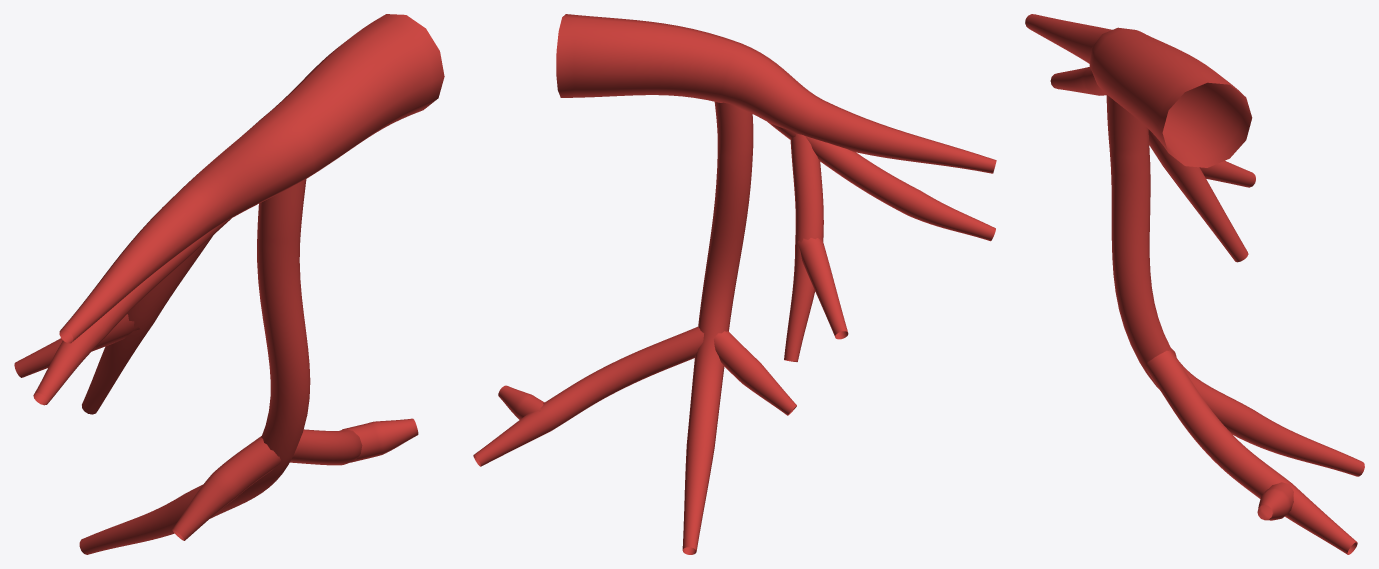
3 views of the same model, side by side, from view 1: azimuth 30°, elevation 25°; view 2: azimuth 150°, elevation 25°; view 3: azimuth 270°, elevation 25° (orthographic). The views are drawn at different scales.
Parts seen in each view (by area): view 1: 右肺前段动脉; view 2: 右肺前段动脉; view 3: 右肺前段动脉.
Part boxes in pixels (bbox=[...]): 右肺前段动脉: bbox=[14, 14, 444, 554]; 右肺前段动脉: bbox=[473, 14, 996, 554]; 右肺前段动脉: bbox=[1025, 14, 1364, 554].
Size of the model in its own units: 0.0975 by 0.102 by 0.0628.
